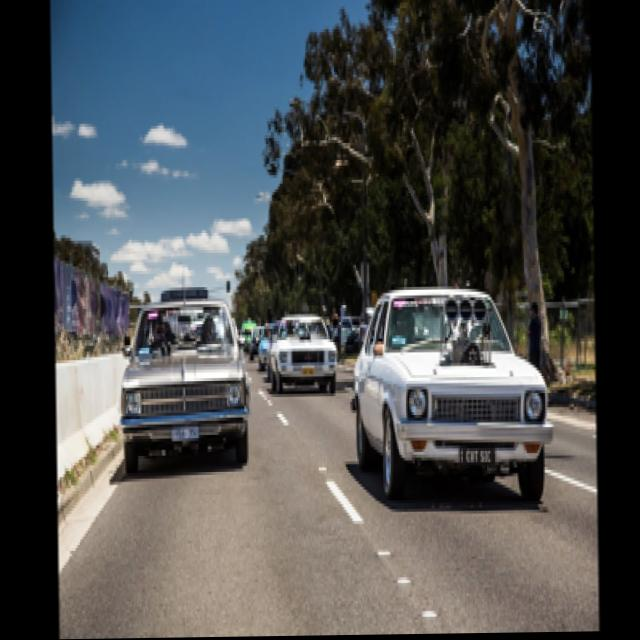licence: (456, 444, 494, 470), (168, 421, 199, 445)
